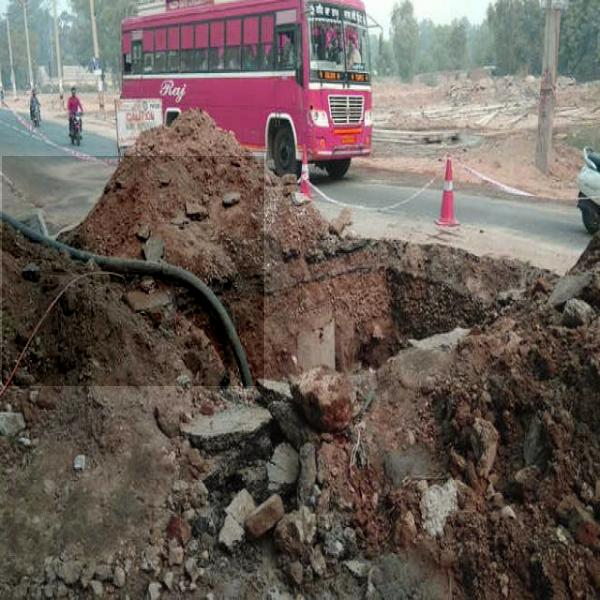no leak: (2, 156, 264, 386)
